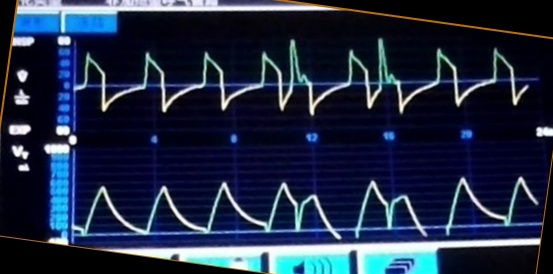Double_Triggering Flow: (123, 36, 528, 113)
Double_Triggering Volume: (102, 168, 536, 238)
